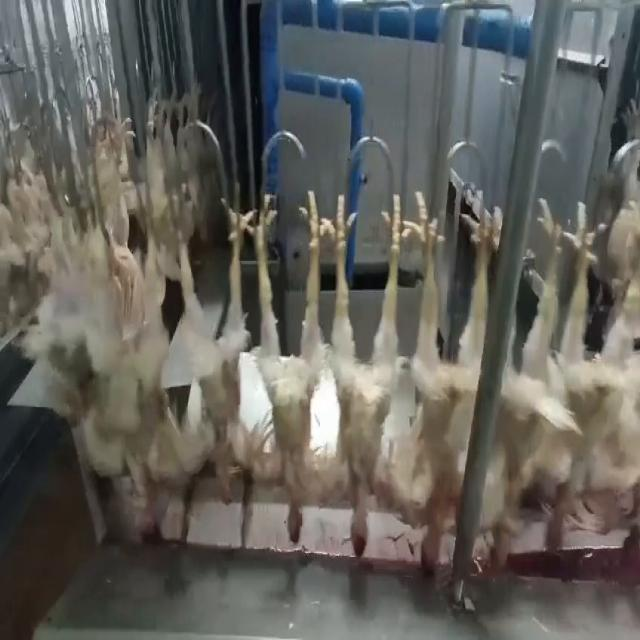chicken: (395, 183, 503, 578), (318, 186, 409, 560), (512, 182, 600, 563), (168, 187, 260, 502), (253, 189, 321, 548), (108, 201, 174, 526)
